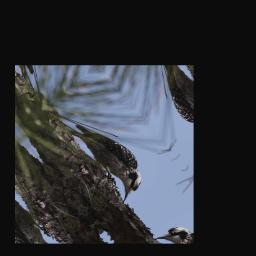Woodpecker: (60, 104, 160, 208)
